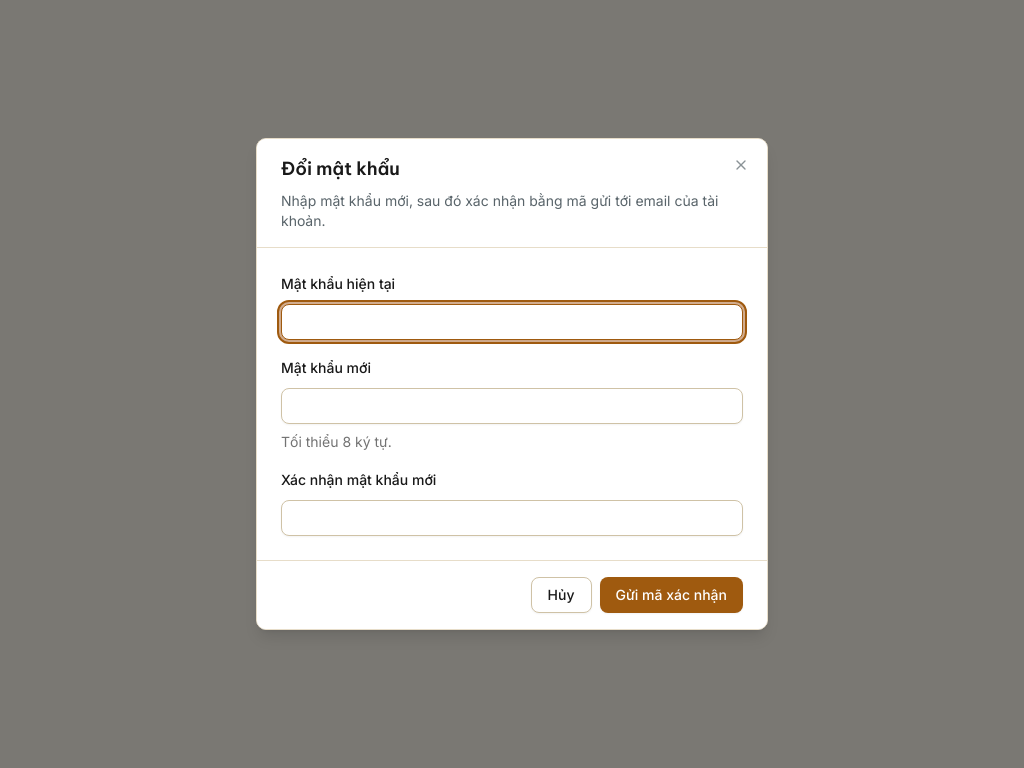
Test case: ChangePasswordDialog › gửi email lỗi thì giữ bước mật khẩu và không báo đã gửi mã
Type "MatKhauCu123" into the password field labelled "Mật khẩu hiện tại" at {"x": 512, "y": 322}, box [281,304,743,340]
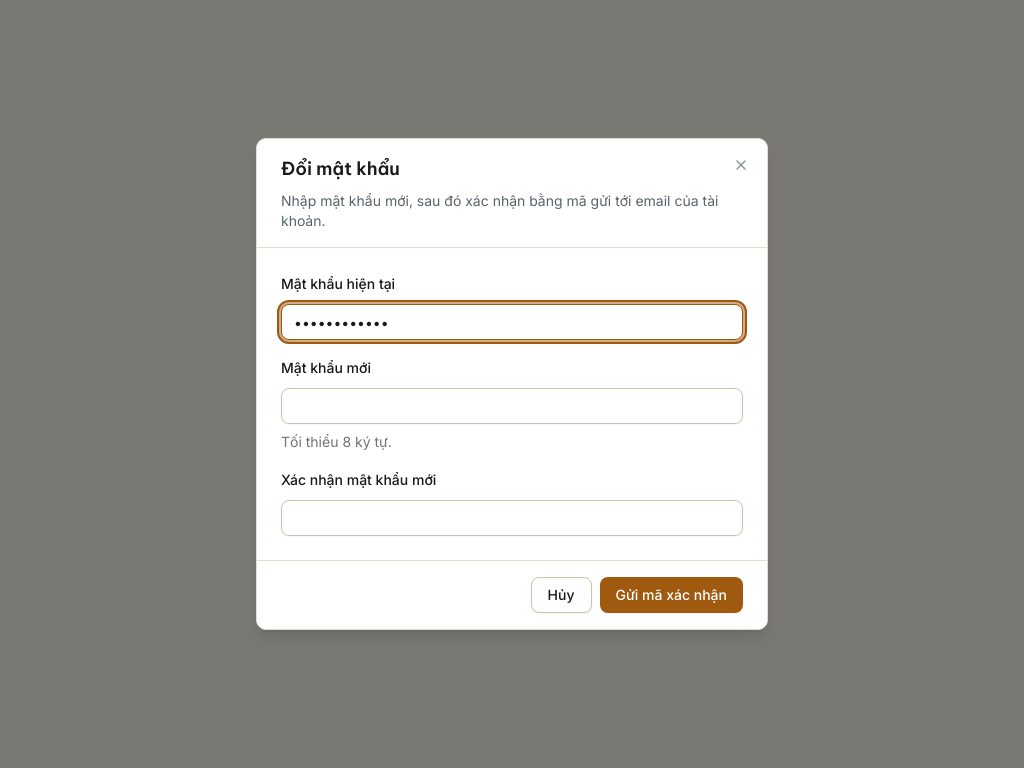
Type "MatKhauMoi456" into the password field labelled "Mật khẩu mới" at {"x": 512, "y": 406}, box [281,388,743,424]
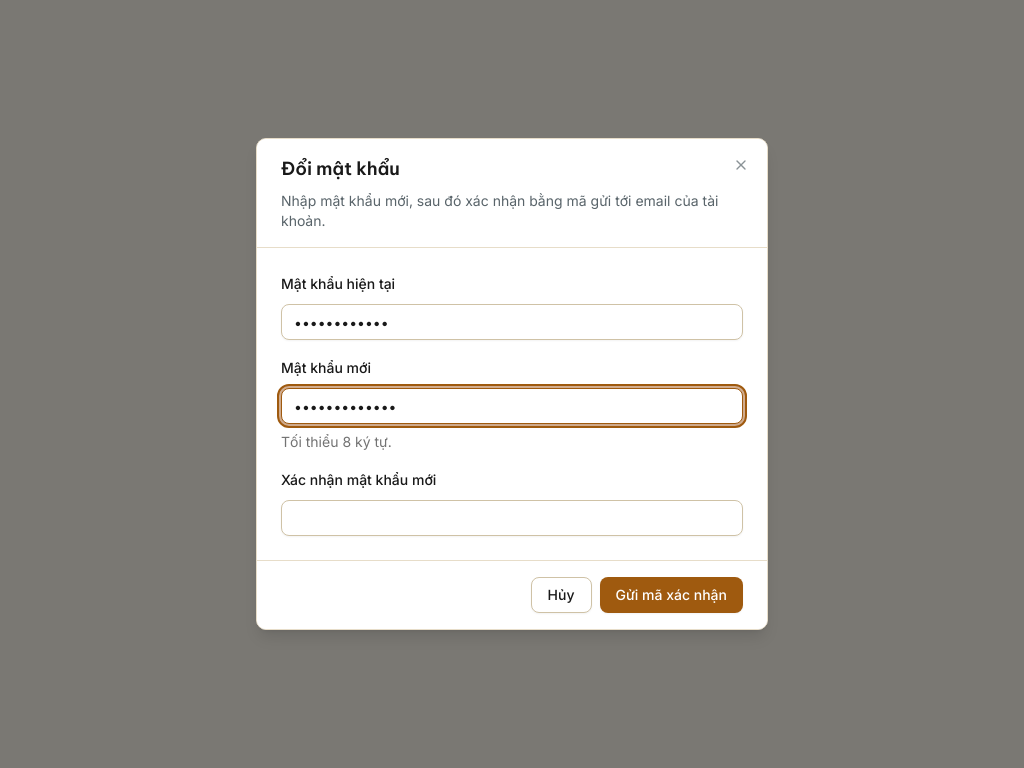
Type "MatKhauMoi456" into the password field labelled "Xác nhận mật khẩu mới" at {"x": 512, "y": 518}, box [281,500,743,536]
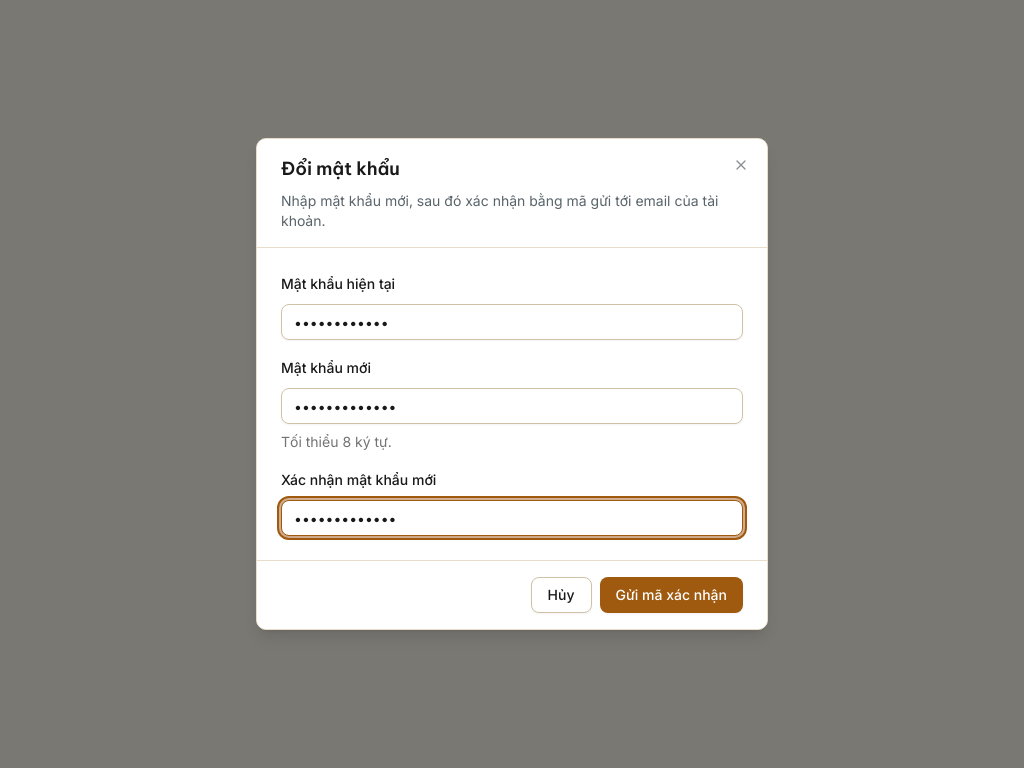
Click the button "Gửi mã xác nhận" at {"x": 671, "y": 595}, box [600,577,743,613]
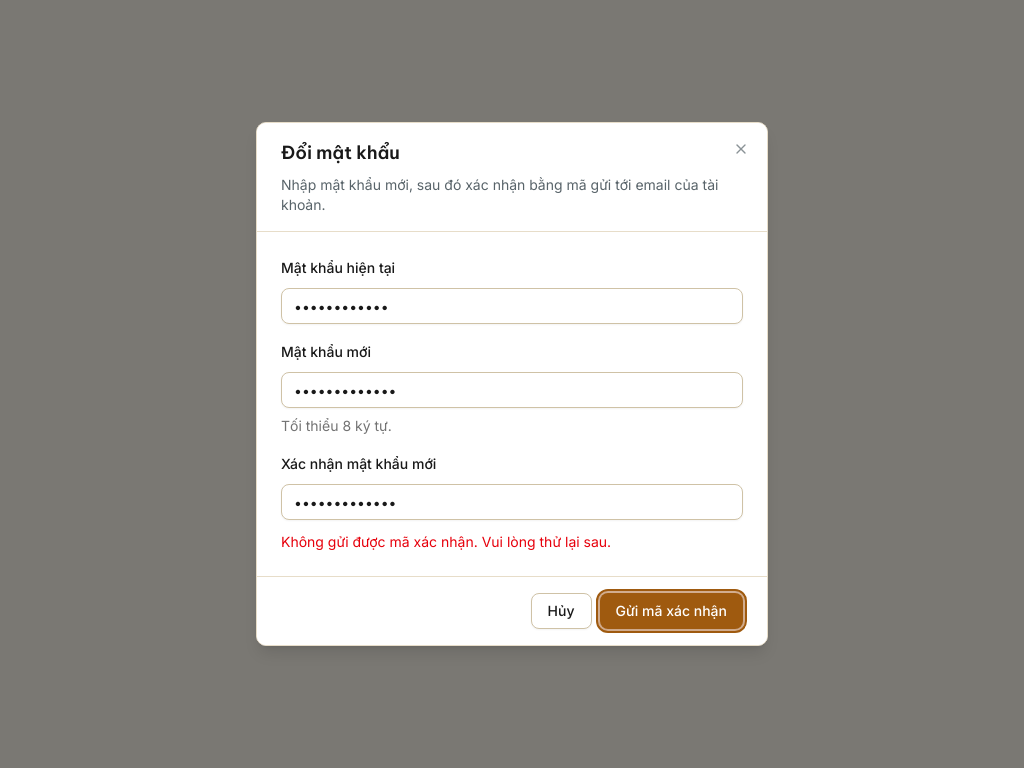
expect the message shows "Không gửi được mã xác nhận": met, box [281,533,611,550]
